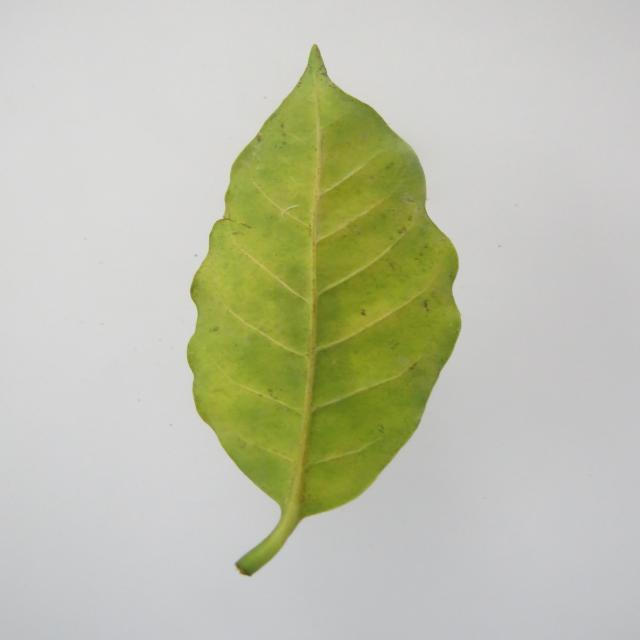DeficienciaNutricional-Calcio: (188, 46, 460, 575)
